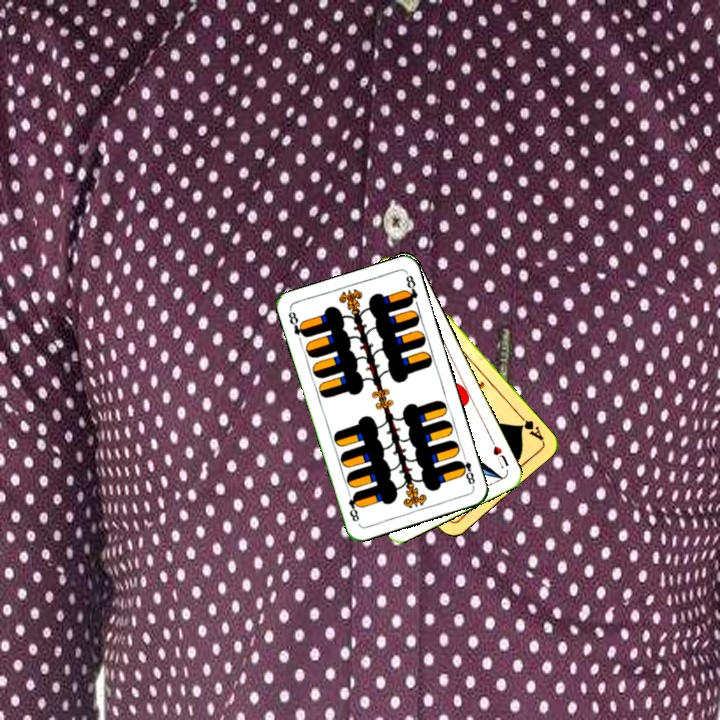E8: (454, 450, 478, 490), (284, 306, 309, 340)
GA: (514, 410, 546, 443)
HU: (487, 435, 512, 471)
